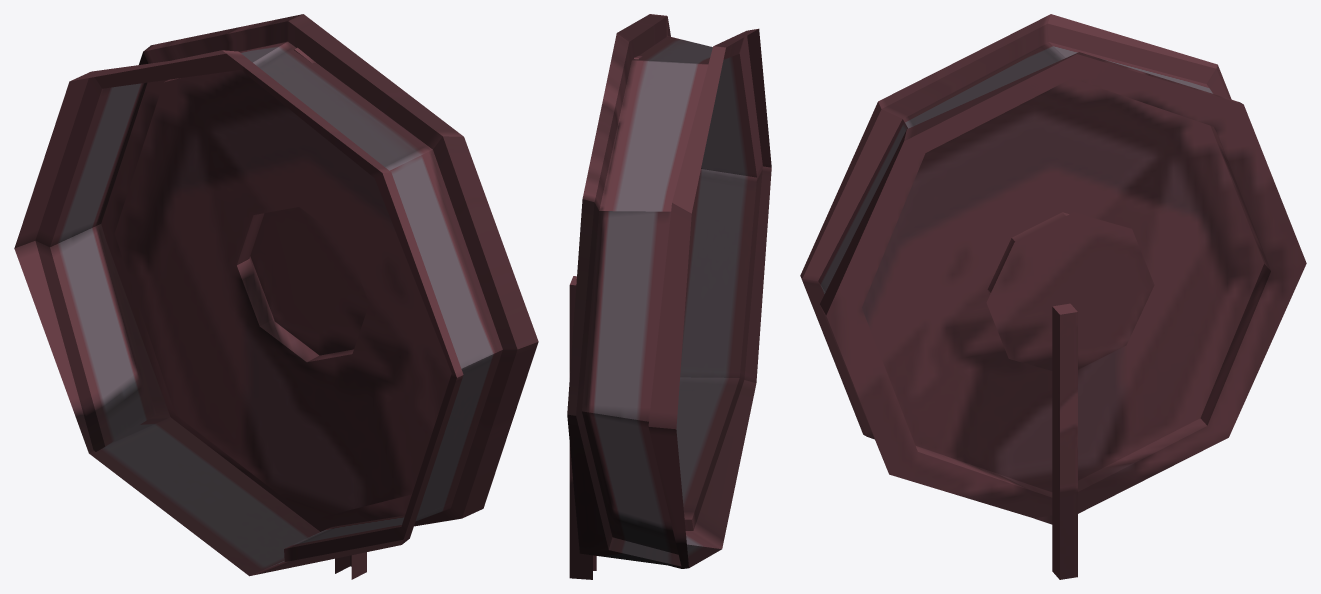
The model's file is Tx_prop_watermill_34.fbx.
The picture shows the model from 3 angles, left to right: view 1: azimuth 30°, elevation 25°; view 2: azimuth 150°, elevation 25°; view 3: azimuth 270°, elevation 25°; orthographic projection. The views are drawn at different scales.
Parts seen in each view (by area): view 1: Tx_prop_watermill_10; view 2: Tx_prop_watermill_10; view 3: Tx_prop_watermill_10.
Boxes of the visible parts, box(x1,y1,x2,y2) form: Tx_prop_watermill_10: box(14, 14, 538, 579); Tx_prop_watermill_10: box(567, 14, 771, 579); Tx_prop_watermill_10: box(800, 14, 1306, 579).
Size of the model in its own units: 1.93 by 3.87 by 3.53.
1 material, 1 textured.
